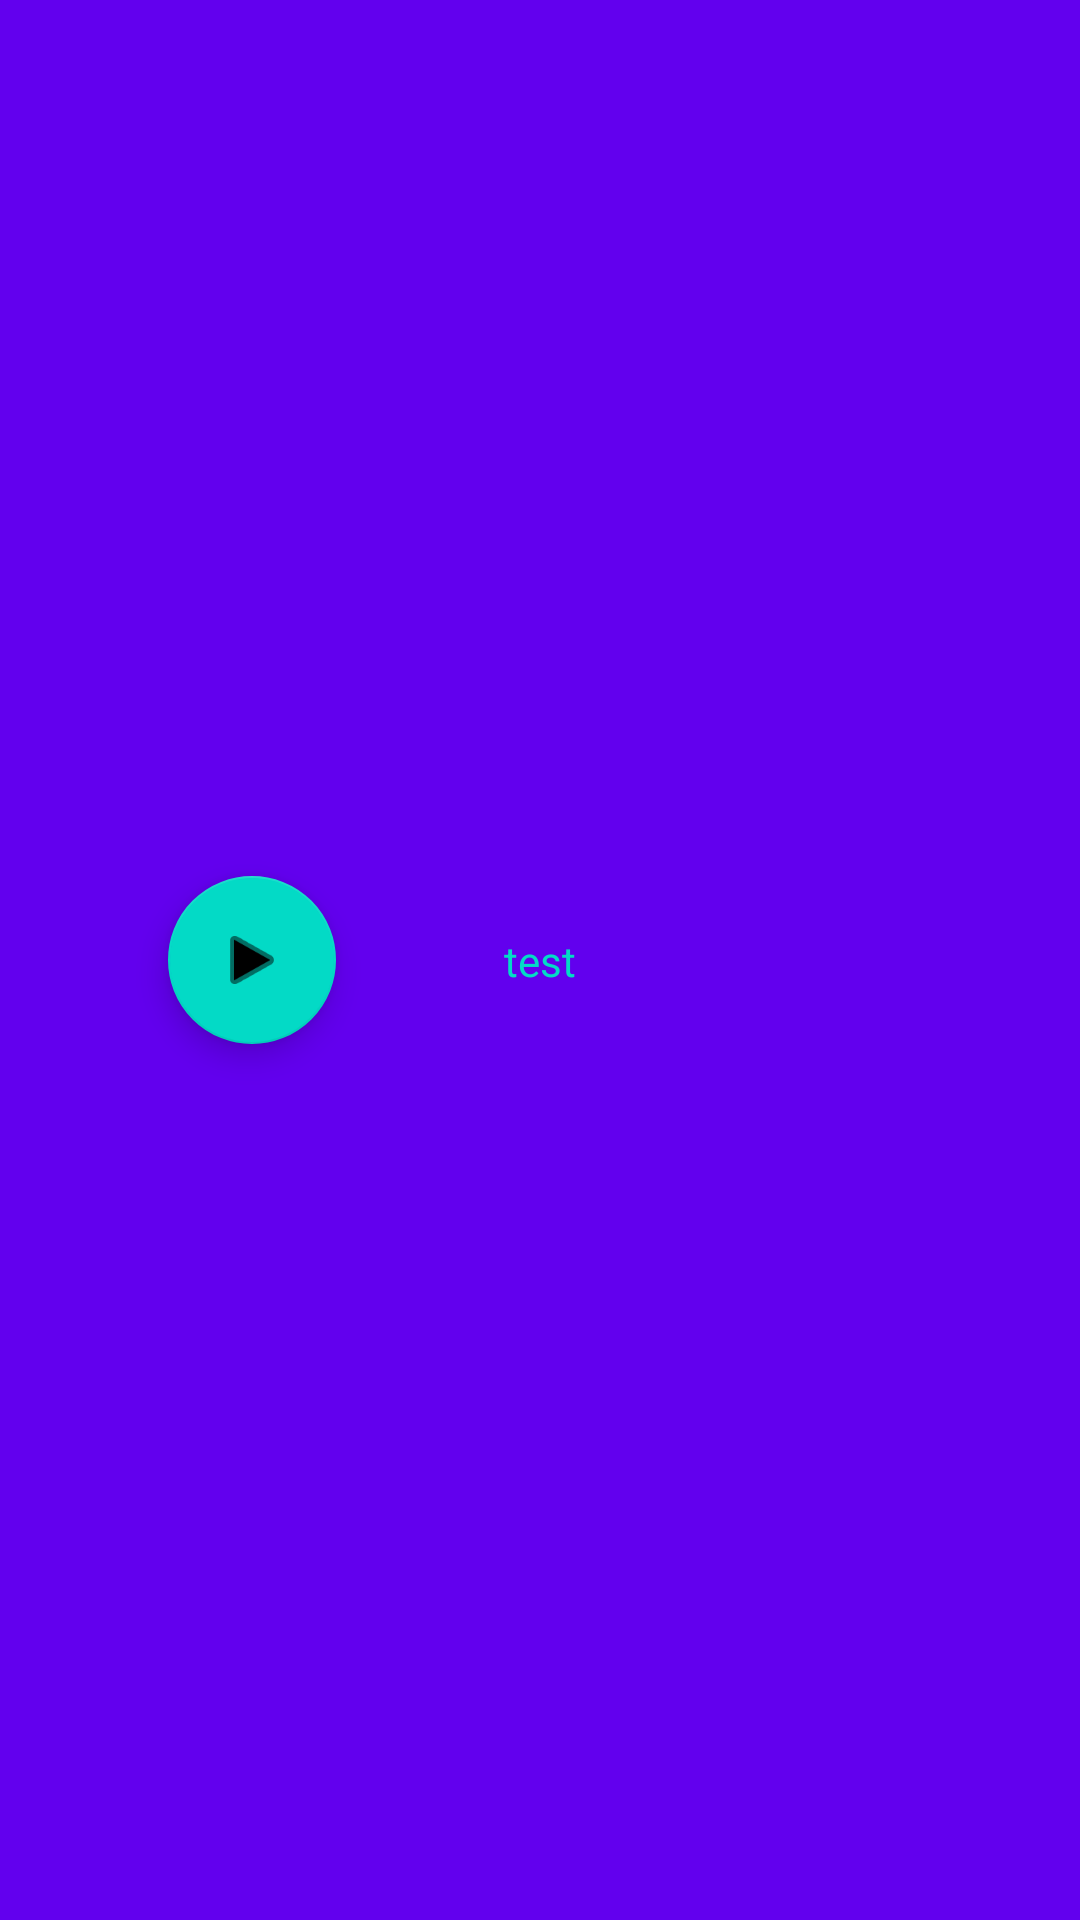

Named icons in this screenshot (1080px×1920px) and their bounding boxes, (x1, y1, x2, y2):
play: (168, 876, 336, 1044)
